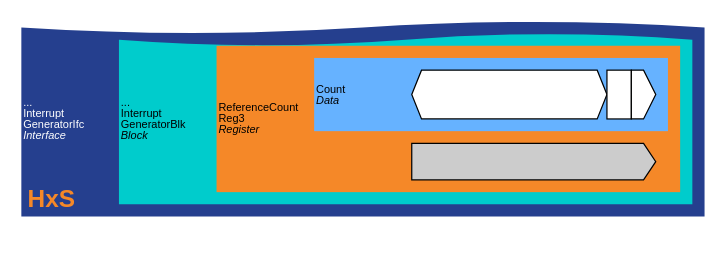
The diagram is 725 pixels wide and 255 high, and some of its shapes have lost their labels. Each missing label, with the centre of its shape:
Reg: point 618,94
WReg Pulse: point 533,161
